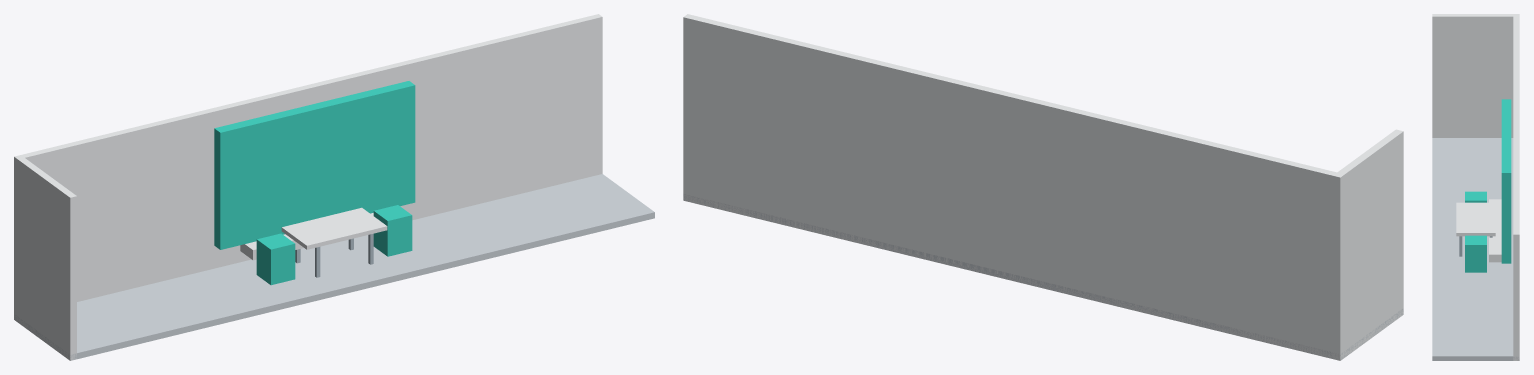
The picture shows the model from 3 angles, left to right: view 1: azimuth 30°, elevation 25°; view 2: azimuth 150°, elevation 25°; view 3: azimuth 270°, elevation 25°; orthographic projection. The views are drawn at different scales.
Parts seen in each view (by area): view 1: Exhibition Booth Concept; view 2: Exhibition Booth Concept; view 3: Exhibition Booth Concept.
Part boxes in pixels (x1,y1,x2,y2): Exhibition Booth Concept: (14, 14, 654, 360); Exhibition Booth Concept: (683, 14, 1403, 360); Exhibition Booth Concept: (1432, 14, 1519, 360).
Bounding box in the file's own units: 12 × 3.2 × 2.
